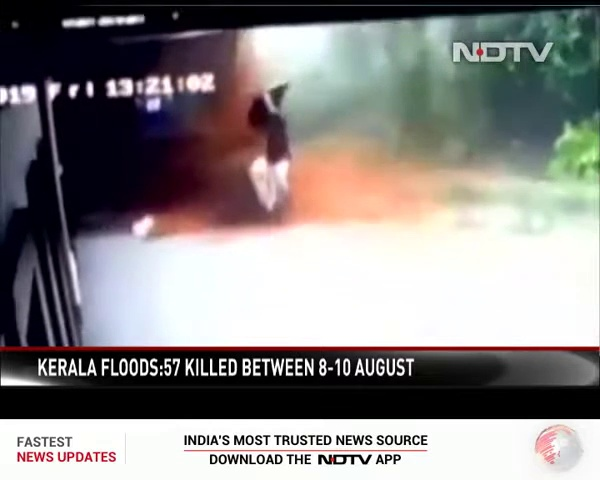person: (241, 91, 293, 213)
